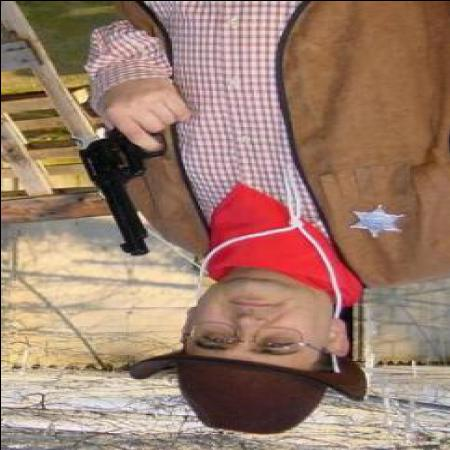Pistol: (74, 127, 168, 259)
